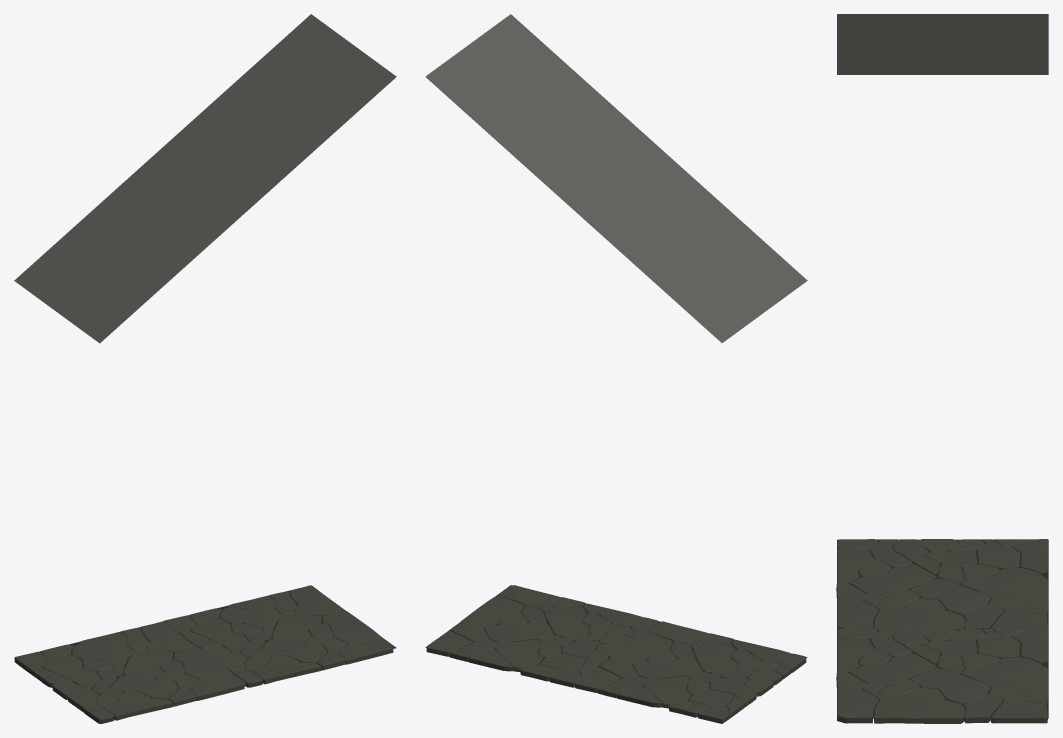
Rendered from Dungeon_Hall_Center_Stairs.glb.
The picture shows the model from 3 angles, left to right: view 1: azimuth 30°, elevation 25°; view 2: azimuth 150°, elevation 25°; view 3: azimuth 270°, elevation 25°; orthographic projection. The views are drawn at different scales.
Visible parts, largest first — view 1: Dungeon_Hall_Center_Stairs.001; view 2: Dungeon_Hall_Center_Stairs.001; view 3: Dungeon_Hall_Center_Stairs.001.
Boxes of the visible parts, x1,y1,x2,y2 form: Dungeon_Hall_Center_Stairs.001: (14, 14, 396, 723); Dungeon_Hall_Center_Stairs.001: (425, 14, 807, 723); Dungeon_Hall_Center_Stairs.001: (836, 14, 1048, 723).
Size of the model in its own units: 8.02 by 14.82 by 4.01.
Materials: 2 (2 with a texture image).
